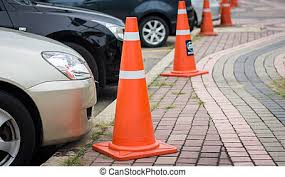car: (1, 27, 97, 166), (1, 1, 127, 96)
cone: (107, 17, 160, 151), (169, 1, 199, 72), (201, 1, 215, 35), (219, 1, 233, 27)
